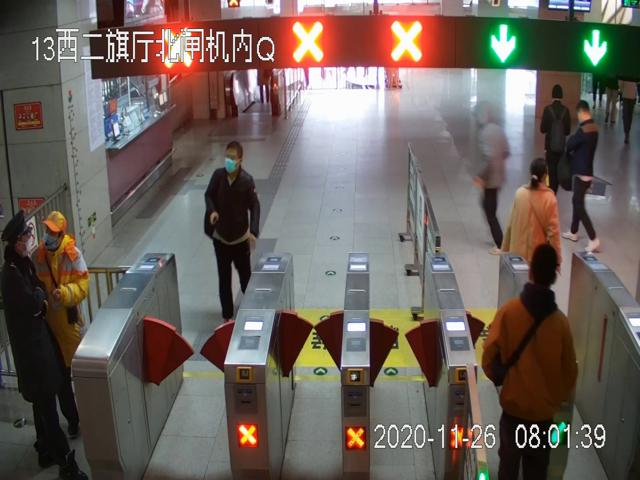person: (2, 208, 89, 480), (482, 242, 580, 480), (31, 210, 89, 440), (205, 140, 259, 329), (503, 155, 559, 303), (563, 100, 601, 253)
